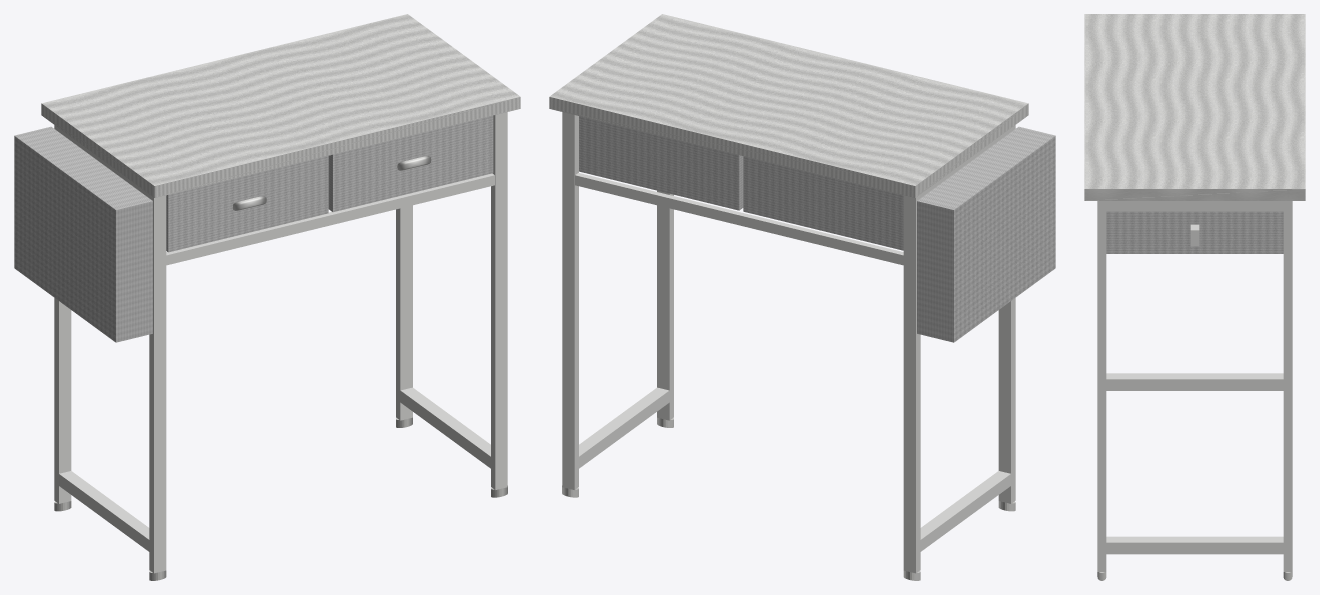
The picture shows the model from 3 angles, left to right: view 1: azimuth 30°, elevation 25°; view 2: azimuth 150°, elevation 25°; view 3: azimuth 270°, elevation 25°; orthographic projection. The views are drawn at different scales.
Visible parts, largest first — view 1: 1 tabletop, 20 side_storage_bag, 17 right_drawer, 16 left_drawer, 4 front_right_leg, 2 front_left_leg, 10 front_under_drawer_bar, 5 back_right_leg, 3 back_left_leg, 6 left_bottom_bar, 7 right_bottom_bar; view 2: 1 tabletop, 20 side_storage_bag, 17 right_drawer, 16 left_drawer, 5 back_right_leg, 3 back_left_leg, 11 back_under_drawer_bar, 4 front_right_leg, 2 front_left_leg, 6 left_bottom_bar, 7 right_bottom_bar; view 3: 1 tabletop, 17 right_drawer, 4 front_right_leg, 5 back_right_leg, 7 right_bottom_bar, 6 left_bottom_bar, 9 right_top_bar.
Part boxes in pixels (box(x1,y1,x2,y2)): 1 tabletop: box(41, 14, 520, 197); 20 side_storage_bag: box(14, 126, 152, 342); 17 right_drawer: box(328, 115, 493, 212); 16 left_drawer: box(166, 155, 328, 252); 4 front_right_leg: box(491, 112, 507, 489); 2 front_left_leg: box(149, 195, 166, 573); 10 front_under_drawer_bar: box(166, 173, 494, 265); 5 back_right_leg: box(396, 205, 412, 420); 3 back_left_leg: box(54, 125, 71, 503); 6 left_bottom_bar: box(56, 471, 151, 553); 7 right_bottom_bar: box(398, 387, 490, 468); 1 tabletop: box(549, 14, 1028, 197); 20 side_storage_bag: box(917, 126, 1055, 342); 17 right_drawer: box(579, 116, 743, 210); 16 left_drawer: box(743, 156, 903, 250); 5 back_right_leg: box(562, 112, 578, 489); 3 back_left_leg: box(903, 194, 920, 573); 11 back_under_drawer_bar: box(575, 173, 903, 265); 4 front_right_leg: box(657, 190, 673, 420); 2 front_left_leg: box(998, 125, 1015, 503); 6 left_bottom_bar: box(920, 471, 1013, 551); 7 right_bottom_bar: box(576, 387, 669, 469); 1 tabletop: box(1084, 14, 1305, 200); 17 right_drawer: box(1106, 211, 1283, 253); 4 front_right_leg: box(1097, 201, 1106, 571); 5 back_right_leg: box(1283, 201, 1292, 571); 7 right_bottom_bar: box(1102, 536, 1287, 554); 6 left_bottom_bar: box(1106, 373, 1283, 390); 9 right_top_bar: box(1103, 201, 1287, 211).
Size of the model in its own units: 1.05 by 1 by 0.51.
Materials: 5 (2 with a texture image).
